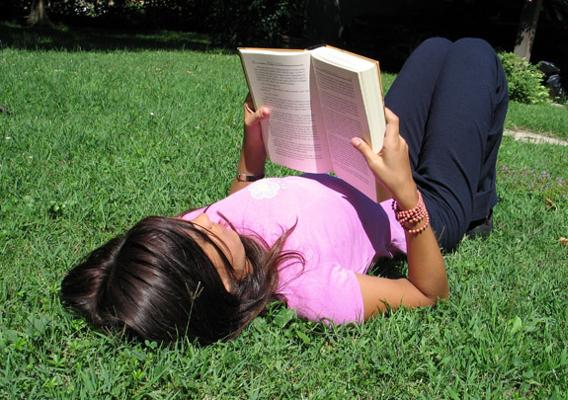person: (60, 37, 512, 349)
